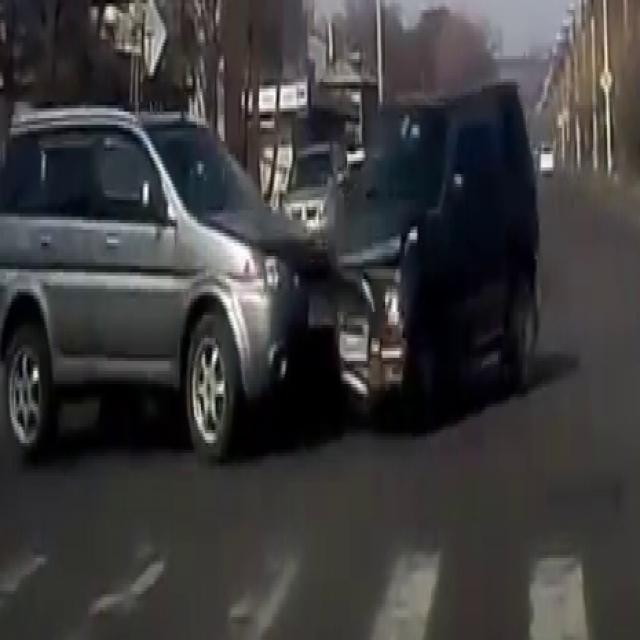accident: (66, 86, 502, 450)
